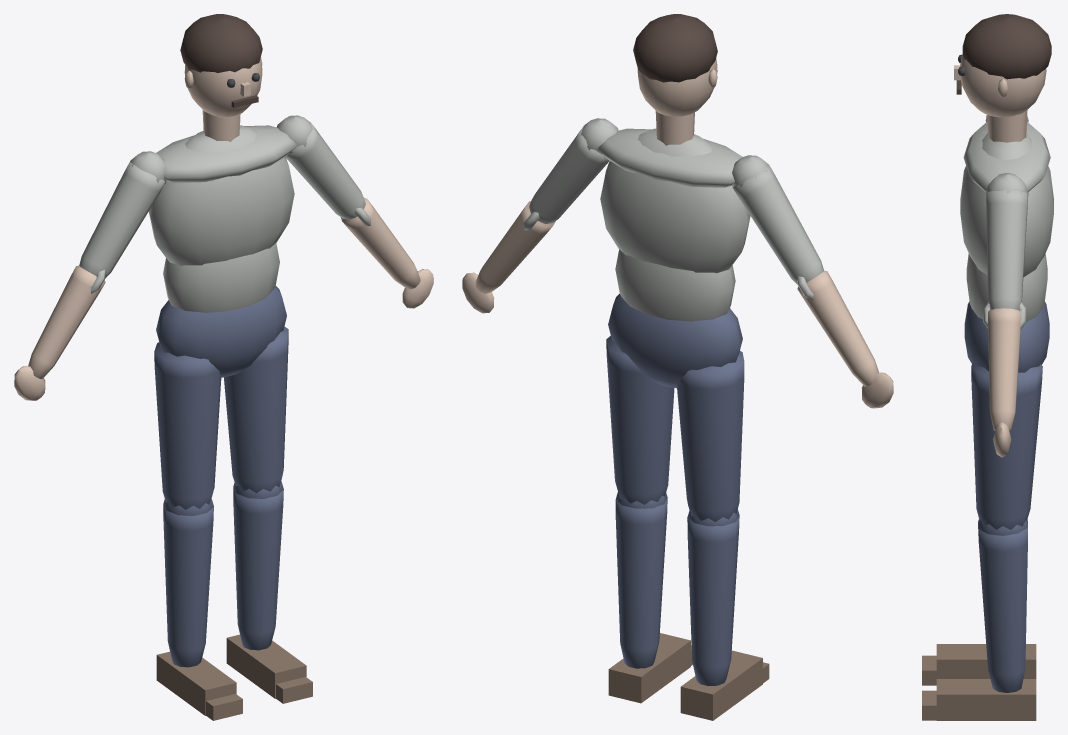
File: Elio.glb
3 views of the same model, side by side, from view 1: azimuth 30°, elevation 25°; view 2: azimuth 150°, elevation 25°; view 3: azimuth 270°, elevation 25° (orthographic). The views are drawn at different scales.
Visible parts, largest first — view 1: Elio; view 2: Elio; view 3: Elio.
Boxes of the visible parts, box(x1,y1,x2,y2) form: Elio: box(14, 14, 433, 720); Elio: box(462, 14, 893, 720); Elio: box(922, 14, 1053, 720).
Bounding box in the file's own units: 1.22 × 1.83 × 0.323.
